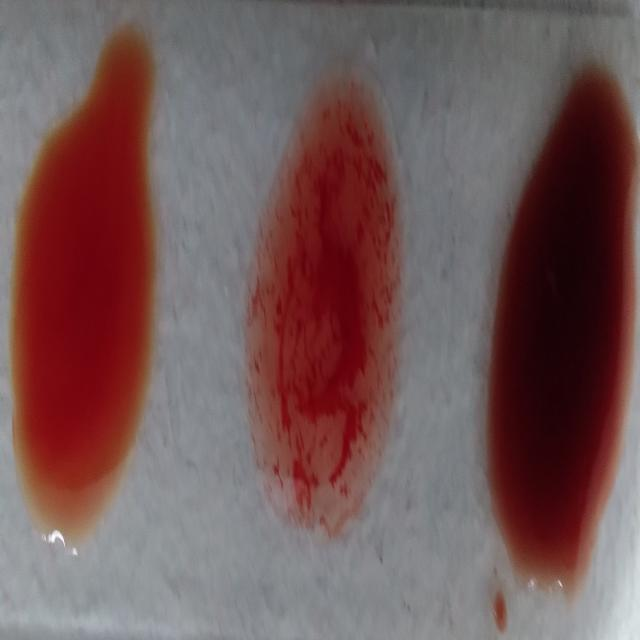D: (254, 70, 401, 536)
